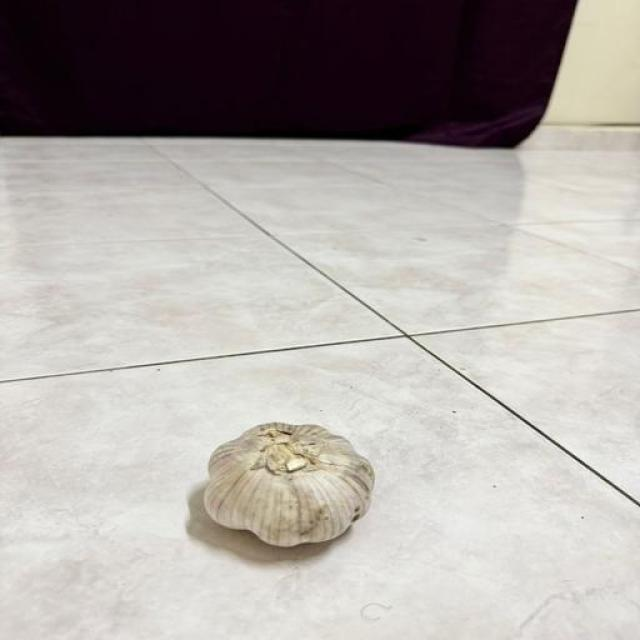organic: (176, 366, 435, 596)
